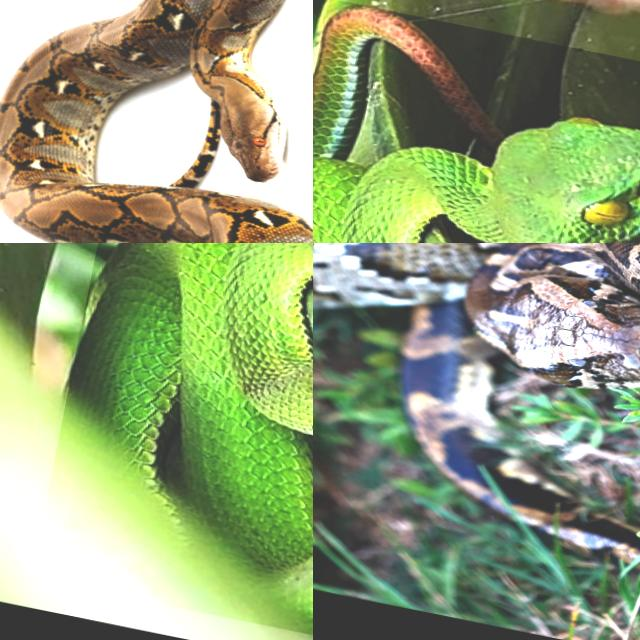Malayopython reticulatus: (0, 0, 312, 242)
Python bivittatus: (313, 243, 639, 561)
Trimeresurus macrops: (70, 243, 312, 633), (313, 7, 639, 242)
snake: (313, 243, 639, 561), (70, 243, 312, 633), (313, 7, 639, 242), (0, 0, 312, 242)
